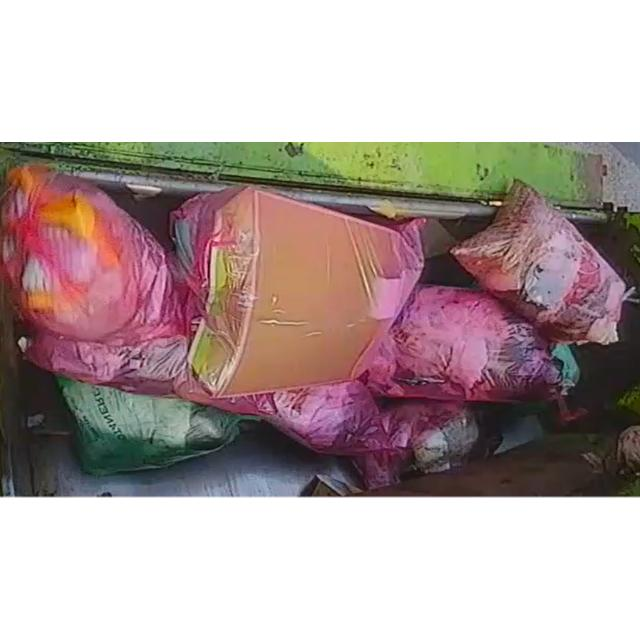general_trashbag: (58, 378, 240, 474)
other_trashbag: (171, 188, 422, 397), (2, 167, 182, 344), (452, 182, 625, 344), (359, 284, 566, 401), (189, 381, 389, 455), (352, 400, 479, 489), (25, 331, 188, 393)
